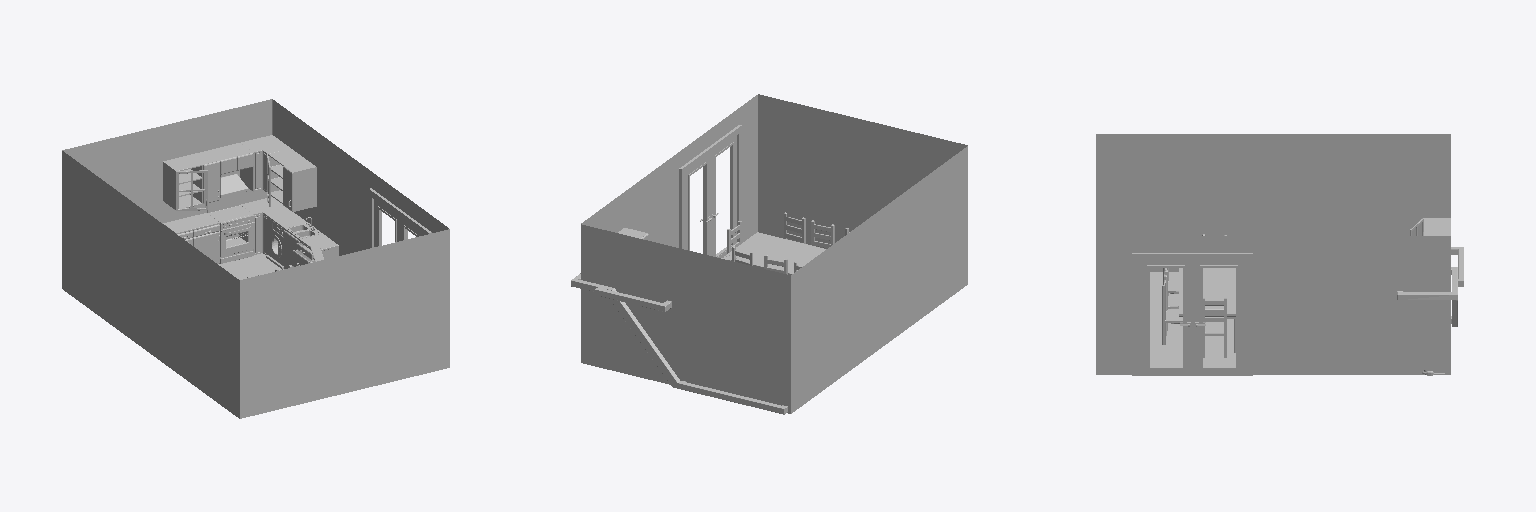
The model's file is appliances.obj.
The picture shows the model from 3 angles: view 1: azimuth 30°, elevation 25°; view 2: azimuth 150°, elevation 25°; view 3: azimuth 270°, elevation 25°; orthographic projection.
Parts seen in each view (by area): view 1: Plane.011_Plane.030, Plane.023_Plane.066, Circle.006_Circle.004, Plane.029_Plane.074, Plane.001_Plane.079, Plane.022_Plane.045, Plane.021_Plane.055, Plane.002_Plane.021; view 2: Plane.011_Plane.030, Plane.010_Plane.029, Plane.022_Plane.045, Plane.021_Plane.055; view 3: Plane.011_Plane.030, Plane.022_Plane.045, Plane.023_Plane.066, Plane.010_Plane.029, Plane.001_Plane.079, Plane.021_Plane.055.
Part boxes in pixels (left/top/right/bottom): Plane.011_Plane.030: left=62, top=99, right=449, bottom=418; Plane.023_Plane.066: left=163, top=135, right=338, bottom=268; Circle.006_Circle.004: left=207, top=193, right=254, bottom=263; Plane.029_Plane.074: left=163, top=197, right=338, bottom=250; Plane.001_Plane.079: left=218, top=253, right=283, bottom=279; Plane.022_Plane.045: left=374, top=199, right=423, bottom=246; Plane.021_Plane.055: left=369, top=188, right=431, bottom=248; Plane.002_Plane.021: left=266, top=218, right=283, bottom=269; Plane.011_Plane.030: left=571, top=94, right=967, bottom=414; Plane.010_Plane.029: left=721, top=212, right=849, bottom=274; Plane.022_Plane.045: left=686, top=136, right=736, bottom=257; Plane.021_Plane.055: left=679, top=125, right=741, bottom=249; Plane.011_Plane.030: left=1096, top=134, right=1463, bottom=374; Plane.022_Plane.045: left=1140, top=261, right=1245, bottom=375; Plane.023_Plane.066: left=1318, top=218, right=1450, bottom=374; Plane.010_Plane.029: left=1162, top=234, right=1235, bottom=357; Plane.001_Plane.079: left=1150, top=272, right=1235, bottom=366; Plane.021_Plane.055: left=1132, top=253, right=1252, bottom=375.
Bounding box in the file's own units: 6.56 × 4.02 × 9.66.